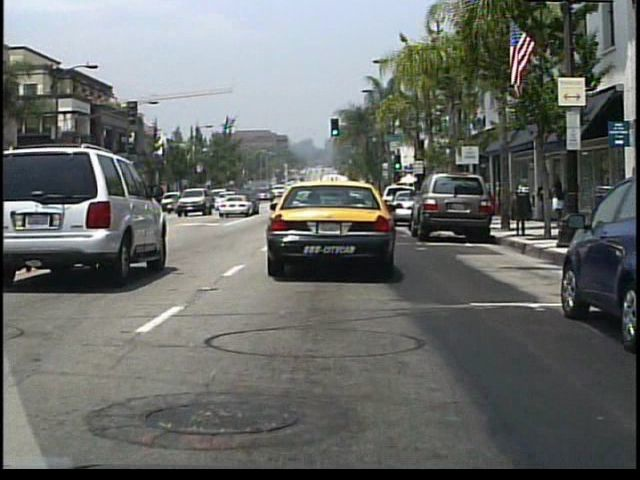person: (565, 172, 585, 227), (535, 177, 553, 227), (551, 173, 566, 220)
